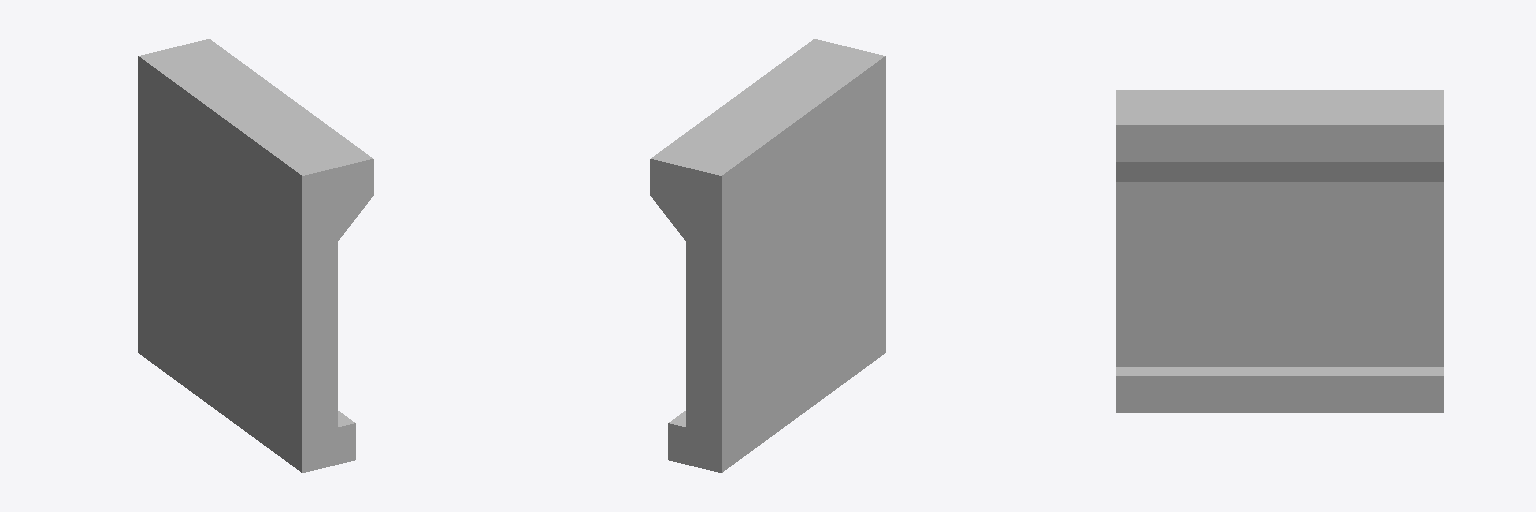
Rendered from spaceInterior_030.obj.
3 views of the same model, side by side, from view 1: azimuth 30°, elevation 25°; view 2: azimuth 150°, elevation 25°; view 3: azimuth 270°, elevation 25° (orthographic).
Parts seen in each view (by area): view 1: Mesh1 Group1 Model; view 2: Mesh1 Group1 Model; view 3: Mesh1 Group1 Model.
Part boxes in pixels (x1,y1,x2,y2): Mesh1 Group1 Model: (138, 39, 373, 472); Mesh1 Group1 Model: (650, 39, 885, 472); Mesh1 Group1 Model: (1116, 90, 1443, 412).
Size of the model in its own units: 0.25 by 1 by 1.